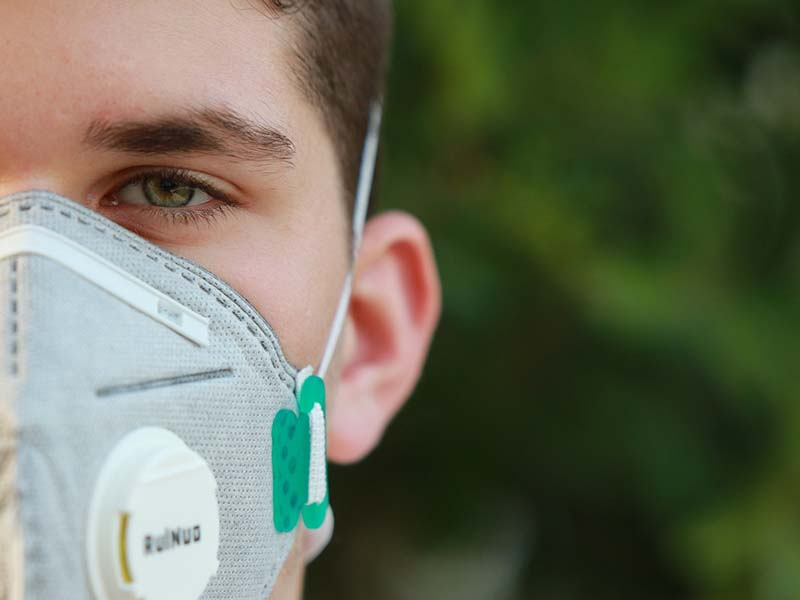with_mask: (3, 6, 453, 600)
